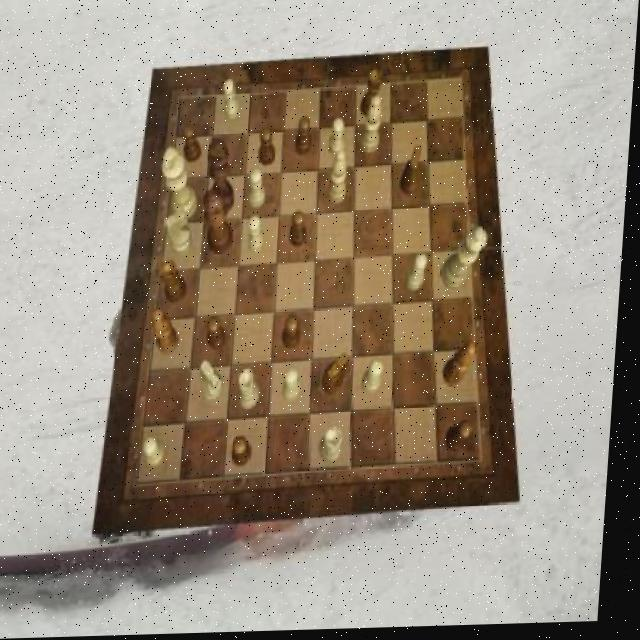bishop: (447, 345, 482, 388), (155, 309, 185, 355)
black-bishop: (206, 139, 240, 215)
black-king: (326, 356, 353, 398), (402, 148, 424, 198)
black-knight: (450, 422, 477, 455), (184, 126, 206, 165), (210, 317, 232, 352), (285, 317, 306, 352), (291, 211, 310, 249), (260, 129, 279, 167), (297, 119, 315, 158), (237, 438, 258, 469)
black-pawn: (202, 189, 239, 256)
black-queen: (163, 261, 192, 306), (361, 71, 383, 120)
black-rook: (360, 99, 383, 158), (330, 150, 352, 205)
white-bishop: (161, 149, 203, 224)
white-king: (167, 209, 197, 257), (202, 362, 228, 405)
white-knight: (224, 80, 243, 122), (409, 256, 431, 292), (366, 361, 388, 396), (250, 217, 270, 255), (148, 437, 172, 468), (250, 170, 269, 209), (287, 368, 308, 403), (331, 119, 349, 158)
white-pawn: (445, 228, 492, 292)
white-queen: (242, 370, 266, 411), (325, 430, 350, 466)
